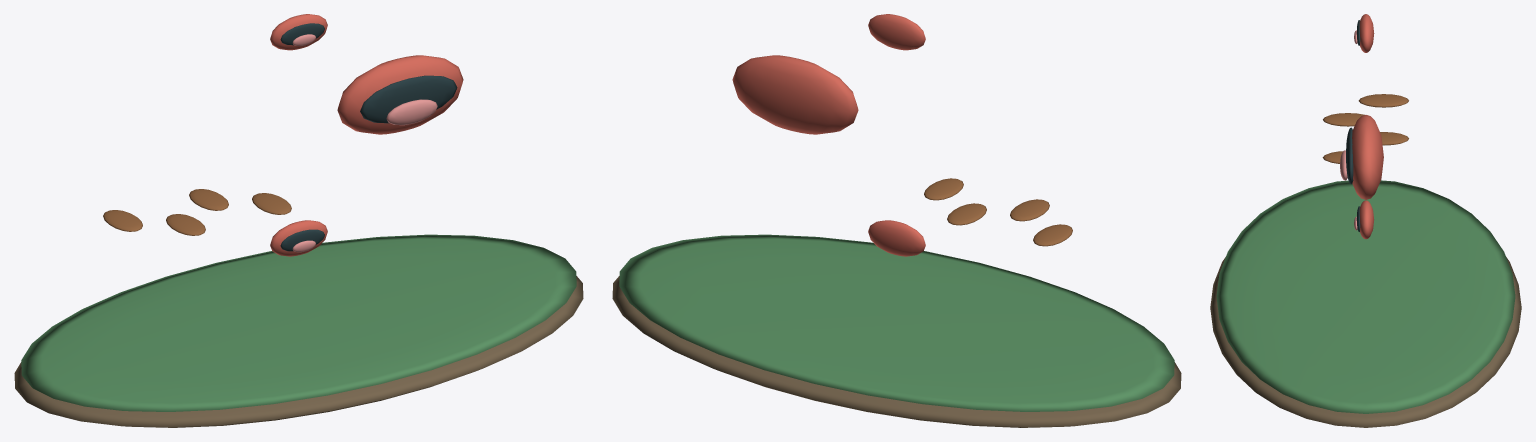
File: complete-second-returning-each.glb
3 views of the same model, side by side, from view 1: azimuth 30°, elevation 25°; view 2: azimuth 150°, elevation 25°; view 3: azimuth 270°, elevation 25° (orthographic). The views are drawn at different scales.
Visible parts, largest first — view 1: complete-second-returning-each_surface_01, complete-second-returning-each_surface_00, complete-second-returning-each_surface_03, complete-second-returning-each_surface_04, complete-second-returning-each_surface_02, complete-second-returning-each_surface_05; view 2: complete-second-returning-each_surface_01, complete-second-returning-each_surface_03, complete-second-returning-each_surface_00, complete-second-returning-each_surface_02; view 3: complete-second-returning-each_surface_01, complete-second-returning-each_surface_00, complete-second-returning-each_surface_03, complete-second-returning-each_surface_02, complete-second-returning-each_surface_04.
Part boxes in pixels (x1,y1,x2,y2): complete-second-returning-each_surface_01: [21, 234, 576, 411]; complete-second-returning-each_surface_00: [14, 276, 583, 427]; complete-second-returning-each_surface_03: [270, 14, 463, 256]; complete-second-returning-each_surface_04: [280, 23, 457, 251]; complete-second-returning-each_surface_02: [103, 189, 291, 235]; complete-second-returning-each_surface_05: [292, 34, 437, 252]; complete-second-returning-each_surface_01: [619, 234, 1174, 411]; complete-second-returning-each_surface_03: [732, 14, 925, 256]; complete-second-returning-each_surface_00: [612, 276, 1181, 427]; complete-second-returning-each_surface_02: [924, 178, 1072, 246]; complete-second-returning-each_surface_01: [1216, 180, 1515, 413]; complete-second-returning-each_surface_00: [1210, 257, 1521, 427]; complete-second-returning-each_surface_03: [1352, 14, 1383, 239]; complete-second-returning-each_surface_02: [1322, 94, 1408, 163]; complete-second-returning-each_surface_04: [1346, 20, 1360, 231].
Bounding box in the file's own units: 4.56 × 2.69 × 2.5.
